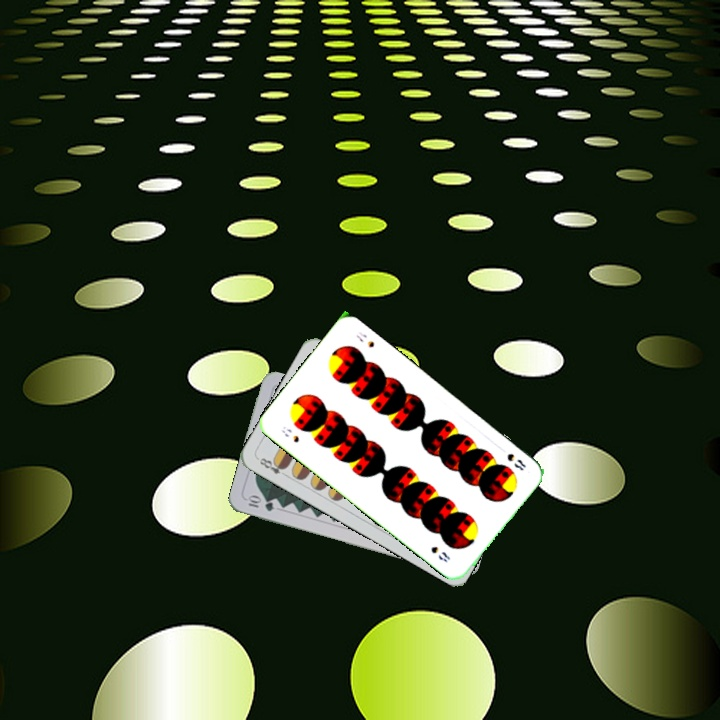E8: (255, 454, 291, 480)
G10: (243, 492, 276, 514)
S8: (503, 449, 528, 473), (278, 422, 302, 445)
